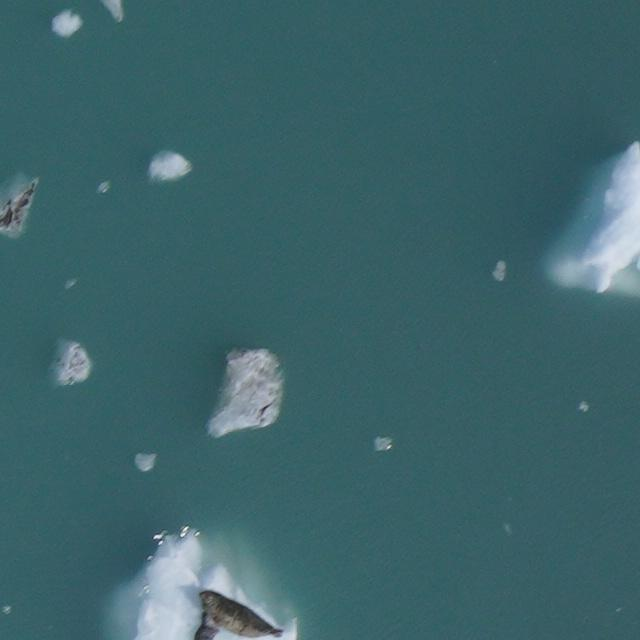seal: (191, 585, 285, 640), (193, 617, 222, 640)
